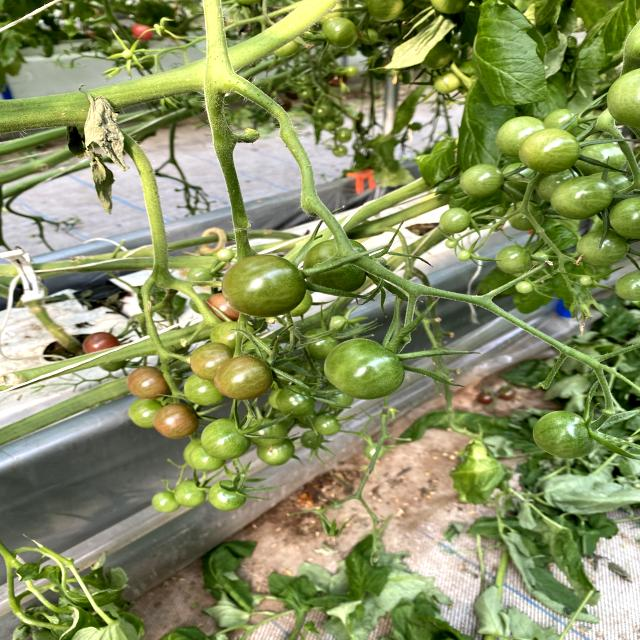ripe0: (222, 255, 307, 317), (324, 338, 405, 399), (531, 410, 594, 459), (213, 355, 275, 402), (520, 129, 580, 174), (551, 178, 611, 218), (201, 418, 249, 460), (459, 164, 504, 200), (209, 481, 246, 512), (494, 245, 533, 274), (277, 385, 314, 415), (256, 442, 297, 466), (439, 208, 471, 235), (150, 491, 180, 513), (314, 417, 342, 438)
ripe1: (154, 403, 198, 439), (126, 365, 169, 400)
